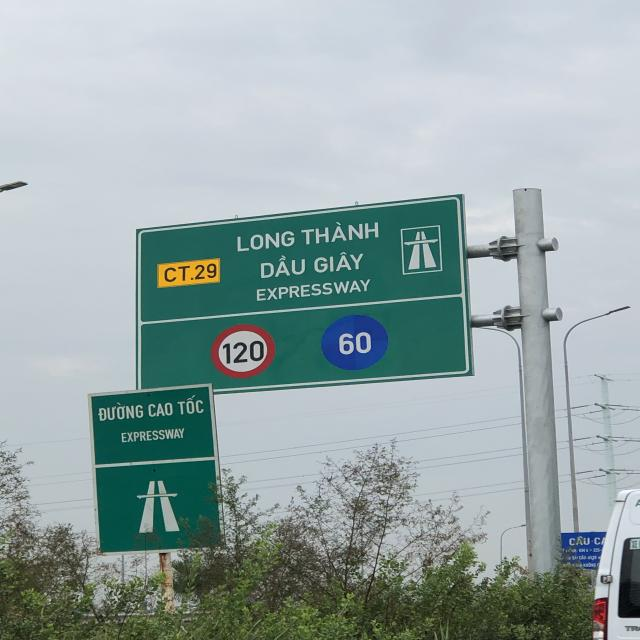Bien bao toc do toi thieu cho phep: (320, 311, 392, 373)
